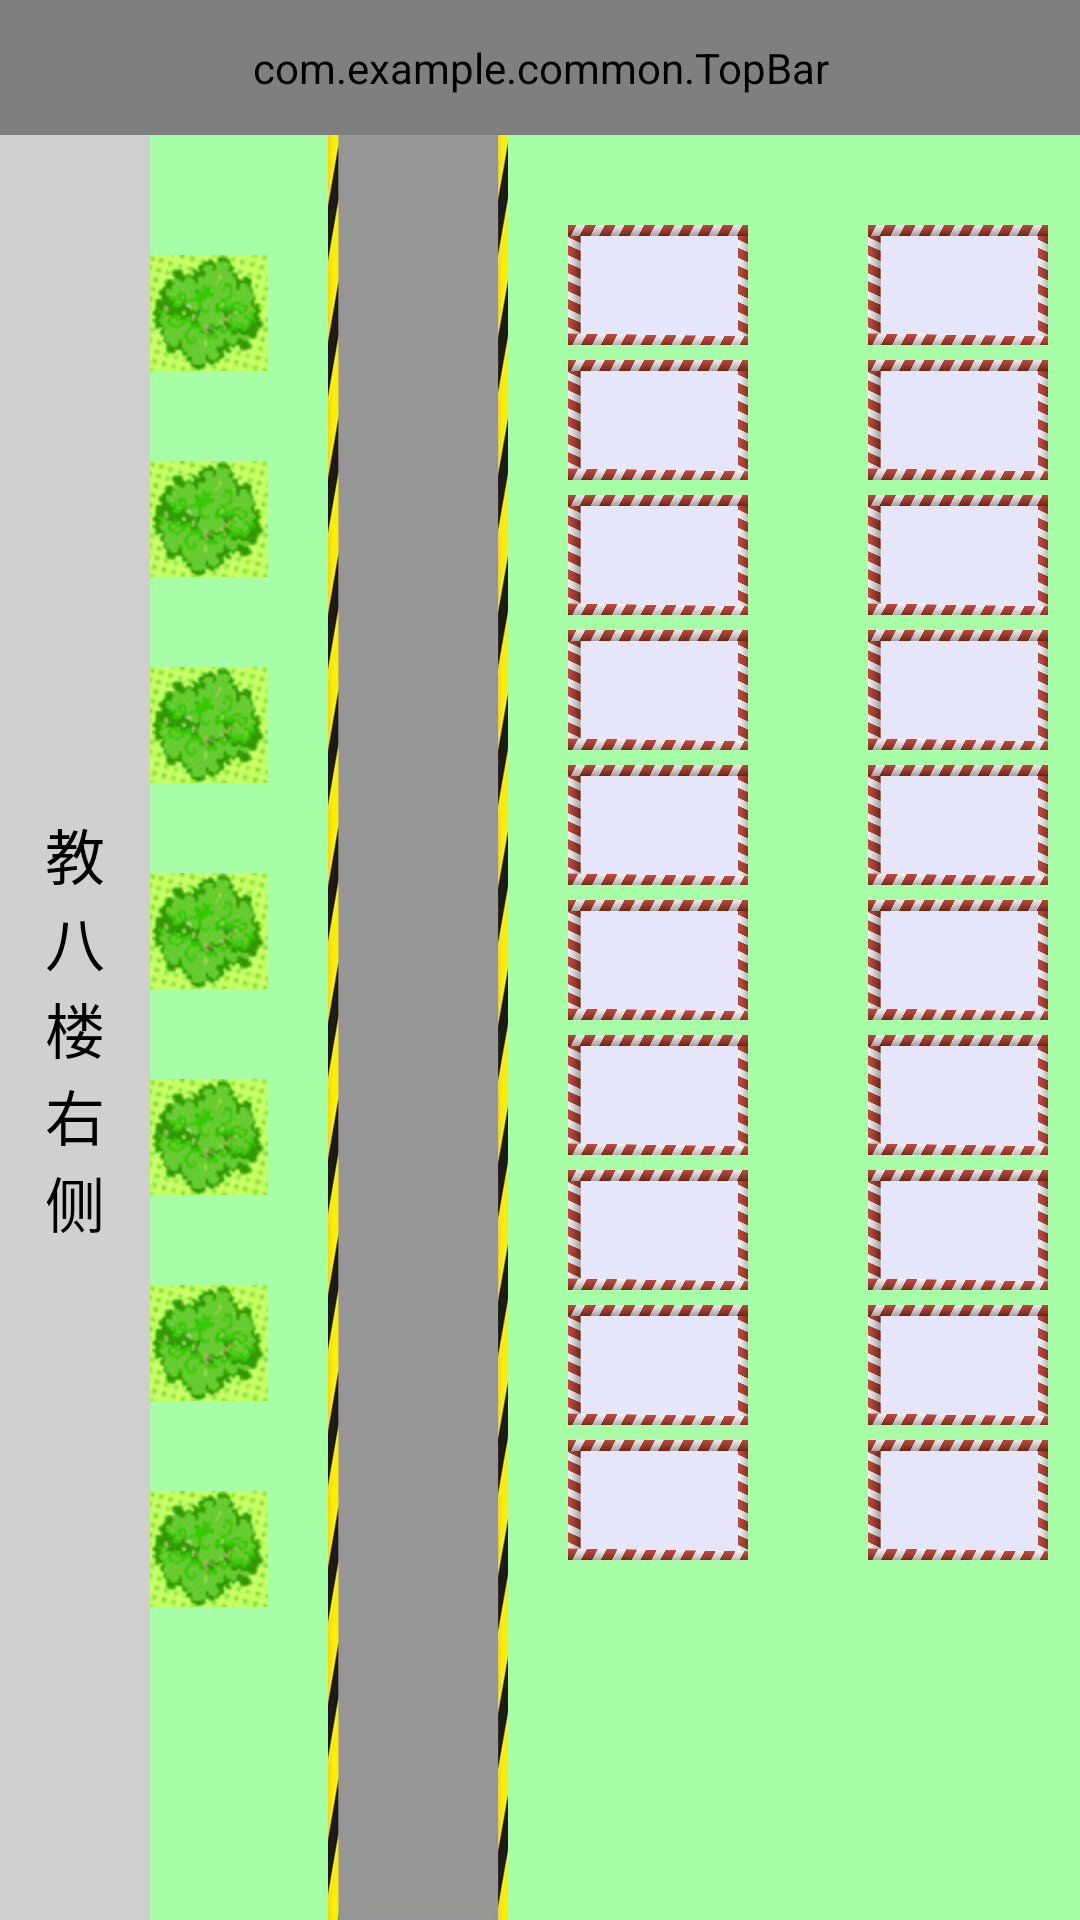

Icon click points for this 1080×1920 phone screenshot, format (x=x, y=y):
shu: (x=209, y=313), (x=209, y=519), (x=209, y=725), (x=209, y=931), (x=209, y=1137), (x=209, y=1343), (x=209, y=1549)
